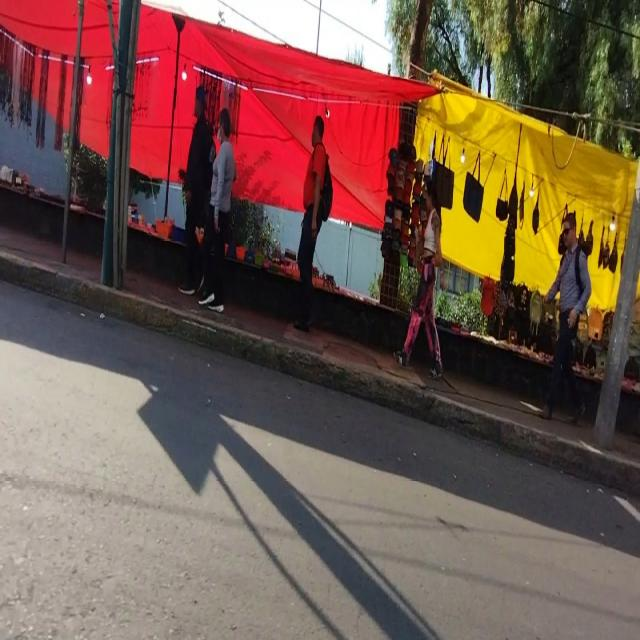adult: (538, 212, 590, 417), (396, 179, 443, 373), (199, 110, 237, 309), (176, 86, 212, 293), (296, 114, 326, 327)
